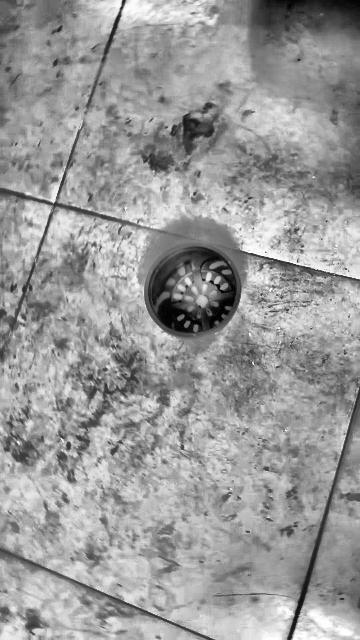pot: (145, 245, 242, 337)
